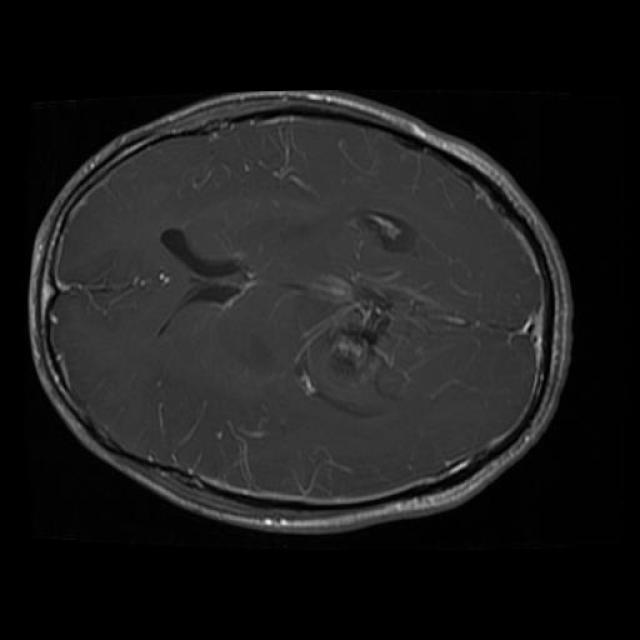Glioma: (294, 271, 418, 416)
